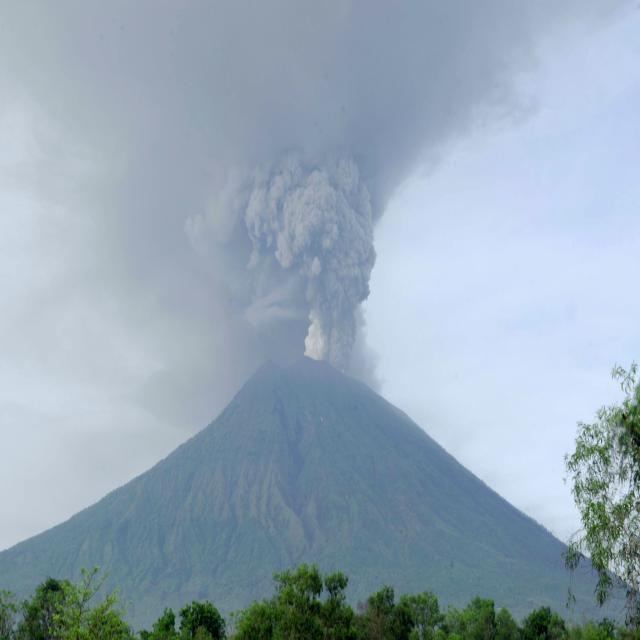smoke: (250, 150, 366, 361)
